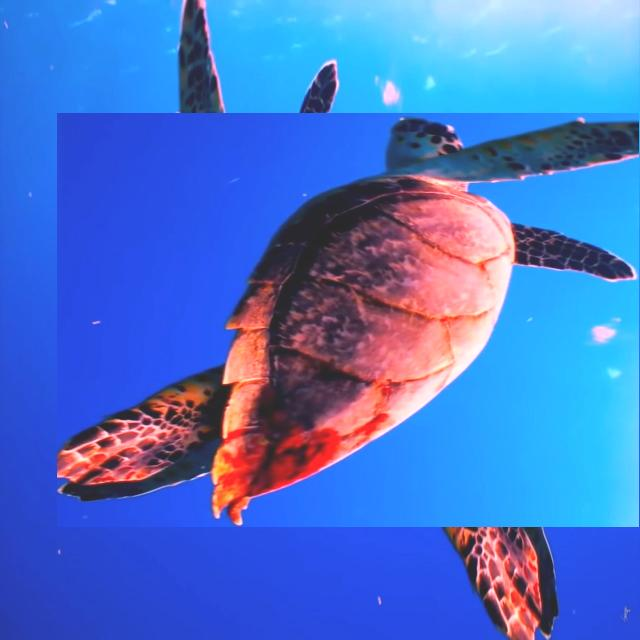Sea turtle: (113, 56, 640, 584)
